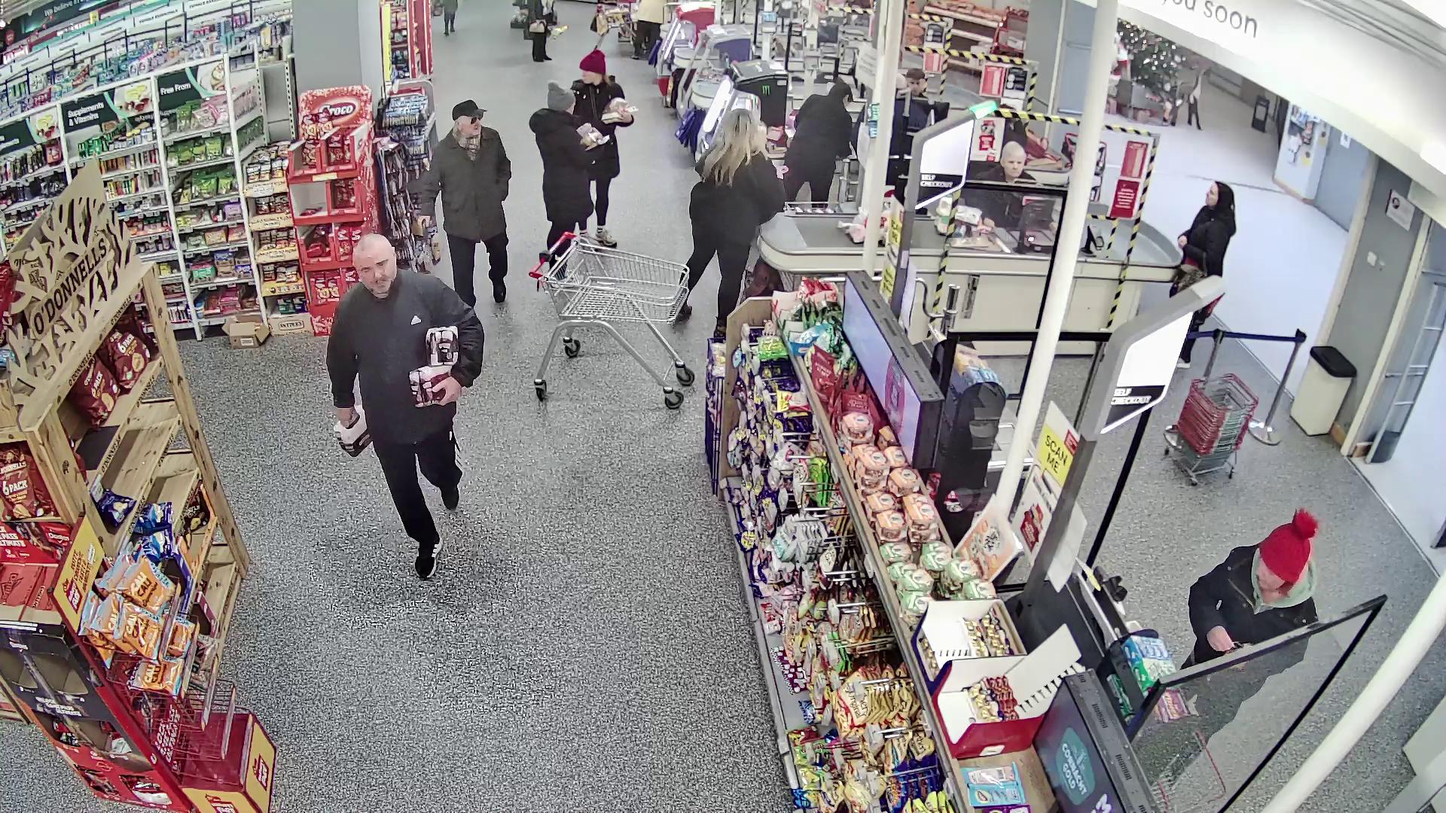carrying-item: (410, 323, 459, 410), (332, 405, 377, 457), (599, 95, 638, 125), (578, 121, 612, 155)
person: (328, 236, 486, 579), (530, 80, 595, 280), (570, 49, 634, 248)
person-with-carrying-item: (327, 236, 486, 580), (530, 80, 613, 279), (570, 48, 639, 248)
